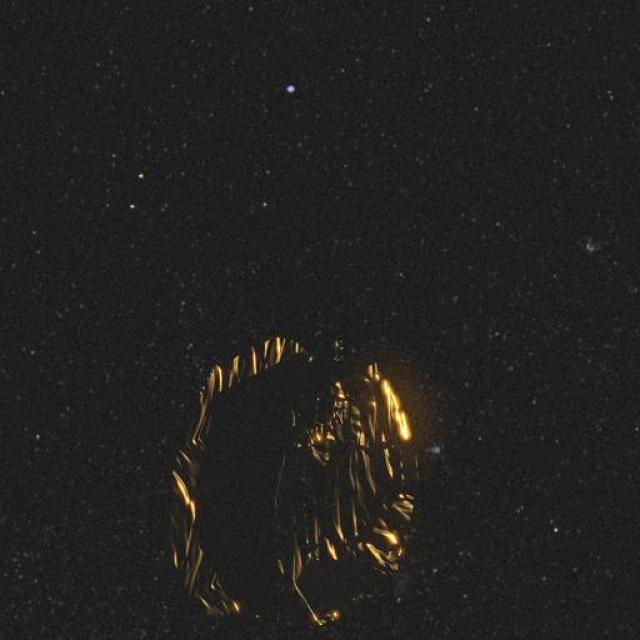lisa_pathfinder: (137, 294, 467, 636)
